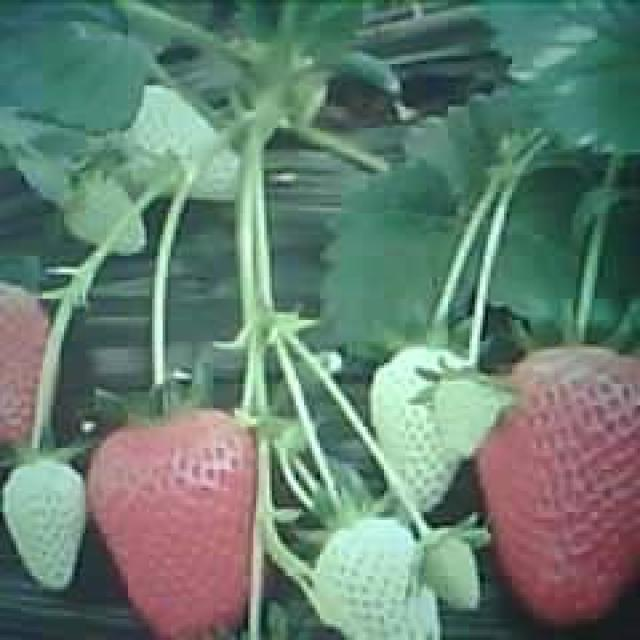Strawberry: (474, 349, 640, 626), (88, 408, 259, 640), (372, 337, 474, 508), (316, 517, 439, 640), (5, 458, 88, 590), (0, 280, 55, 441), (64, 172, 147, 255)
